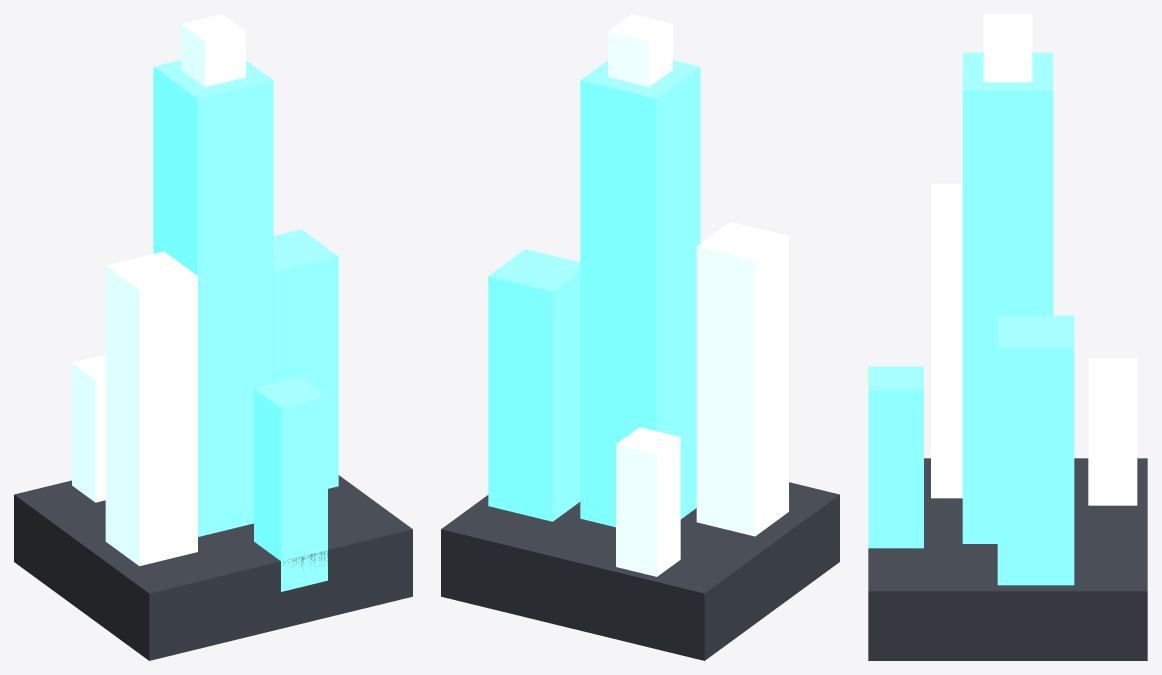
File: dba-crystal-blue.glb
The picture shows the model from 3 angles, left to right: view 1: azimuth 30°, elevation 25°; view 2: azimuth 150°, elevation 25°; view 3: azimuth 270°, elevation 25°; orthographic projection. The views are drawn at different scales.
Visible parts, largest first — view 1: box-prop; view 2: box-prop; view 3: box-prop.
Part boxes in pixels (<box>): box-prop: <box>14,14,412,660</box>; box-prop: <box>441,14,839,660</box>; box-prop: <box>868,14,1147,660</box>.
Bounding box in the file's own units: 0.99 × 1.98 × 0.88.
